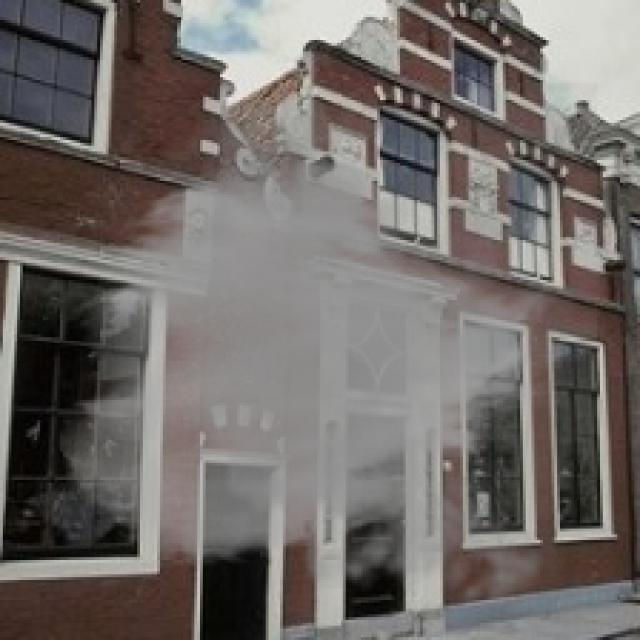smoke: (54, 83, 597, 623)
